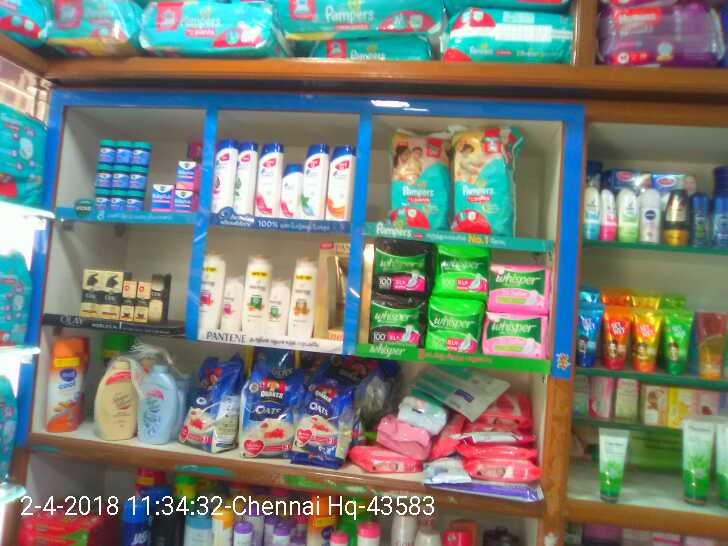vicks: (94, 137, 196, 212)
